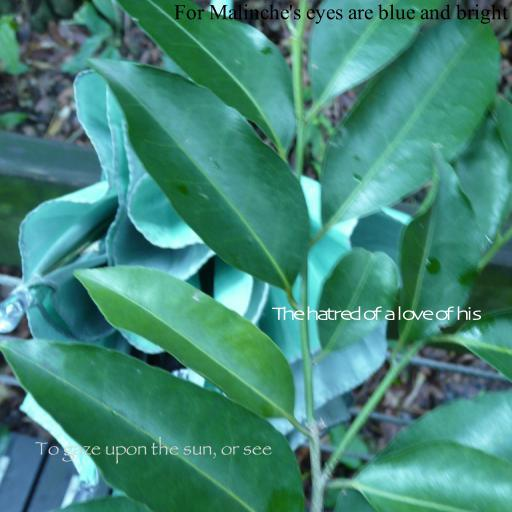Papyrus: (34, 436, 272, 464)
Skia: (271, 306, 479, 321)
Times New Roman: (174, 4, 508, 24)
